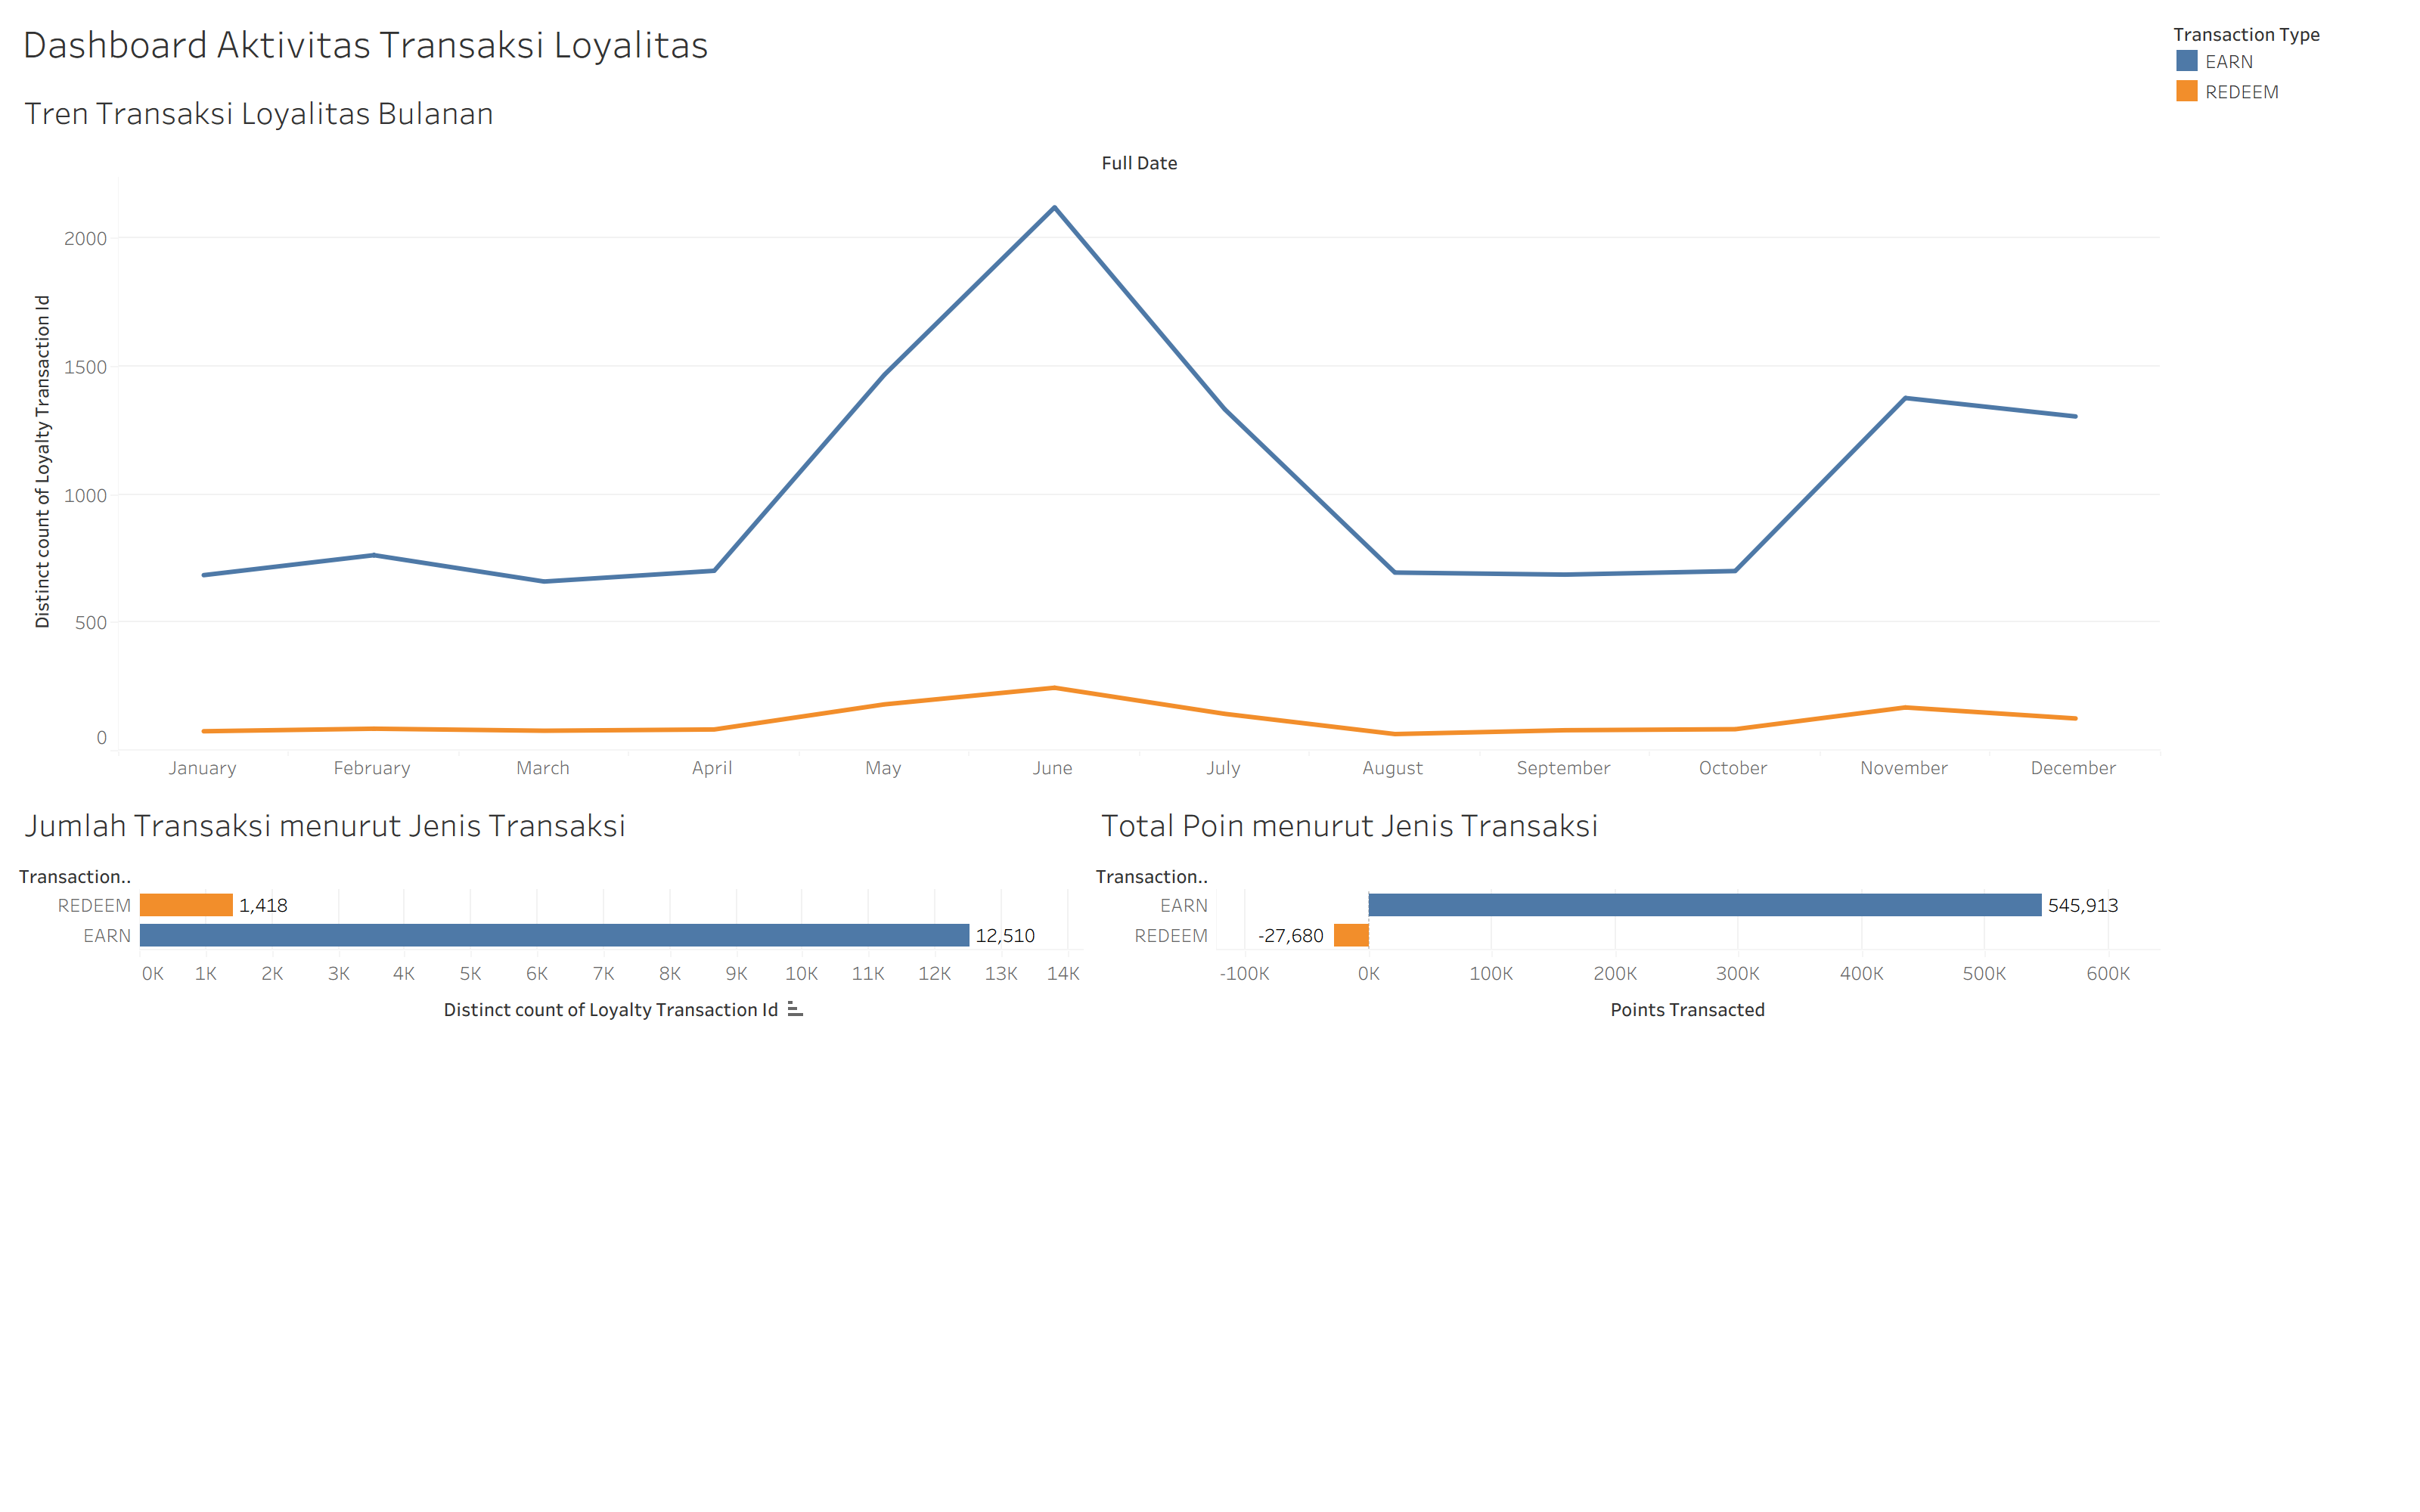

This screenshot's page, from the dashboard's own definition file:
{"tool":"tableau","page":{"name":"Dashboard Aktivitas Transaksi Loyalitas","canvas":[1600,1000],"ordinal":1},"visuals":[{"type":"title","box":[8,8,1424,42]},{"type":"legend","title":"Tren Transaksi Loyalitas Bulanan","param":"[federated.0pxkg8i09l8wl914td57o0urgibs].[none:transaction_type:nk]","box":[1432,8,160,66]},{"type":"worksheet","title":"Tren Transaksi Loyalitas Bulanan","mark":"Automatic","rows":["loyalty_transaction_id"],"cols":["full_date"],"box":[8,50,1424,471]},{"type":"worksheet","title":"Jumlah Transaksi menurut Jenis Transaksi","mark":"Bar","rows":["transaction_type"],"cols":["loyalty_transaction_id"],"box":[8,521,712,471]},{"type":"worksheet","title":"Total Poin menurut Jenis Transaksi","mark":"Bar","rows":["transaction_type"],"cols":["points_transacted"],"box":[720,521,712,471]}]}

Visuals, with their boxes in screenshot pixels (x1, y1, x2, y2), scaled from the page's 1600x1000 canvas onto the 2420x1512 screenshot:
title: left=12, top=12, right=2166, bottom=76
"Tren Transaksi Loyalitas Bulanan" legend: left=2166, top=12, right=2408, bottom=112
"Tren Transaksi Loyalitas Bulanan" worksheet: left=12, top=76, right=2166, bottom=788
"Jumlah Transaksi menurut Jenis Transaksi" worksheet (Bar marks): left=12, top=788, right=1089, bottom=1500
"Total Poin menurut Jenis Transaksi" worksheet (Bar marks): left=1089, top=788, right=2166, bottom=1500
